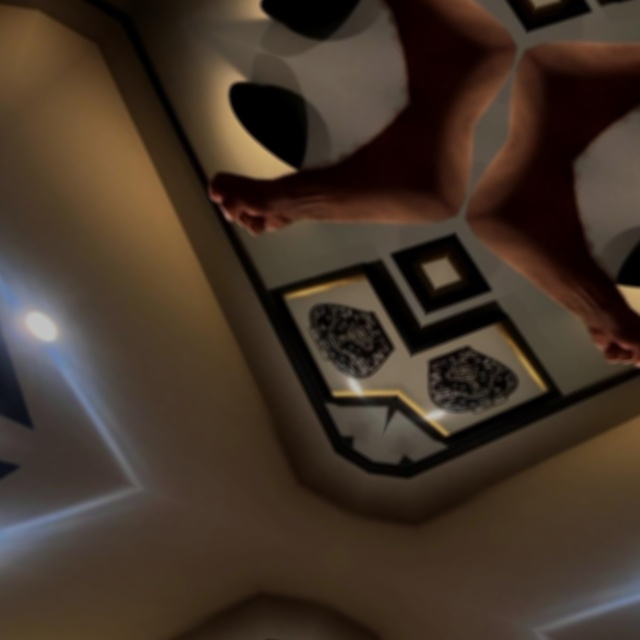Rock: (182, 148, 310, 265)
